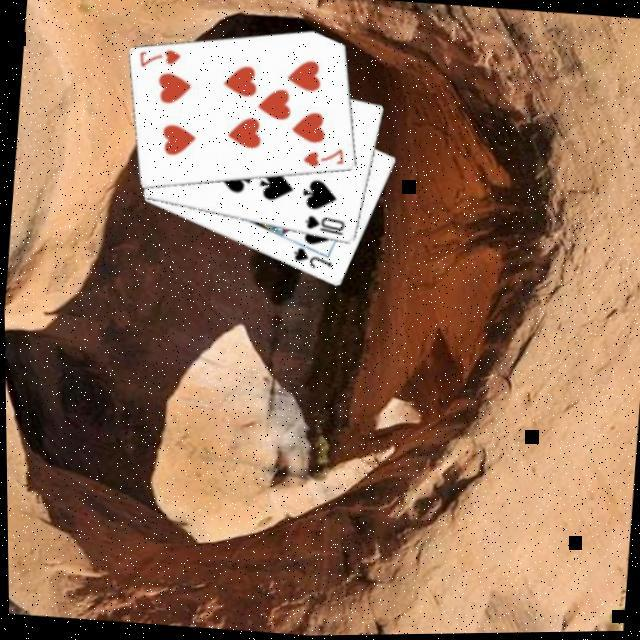10S: (302, 212, 350, 241)
7H: (300, 144, 349, 174), (136, 45, 185, 75)
JS: (289, 245, 336, 276)
